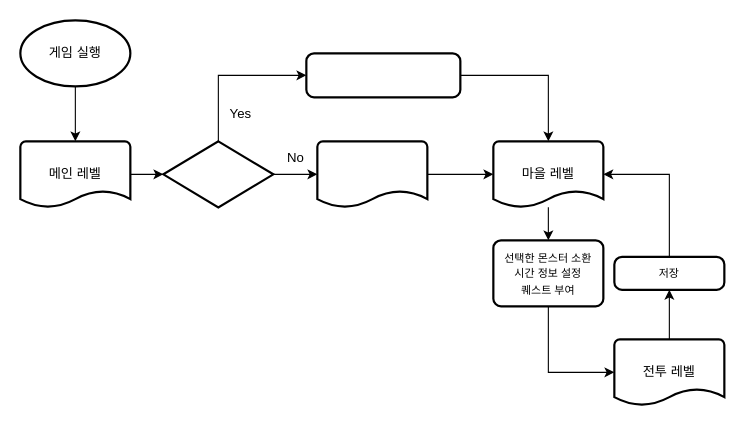
Some shapes in this 744 by 425 pixel diagram are drawn without their labels. Here are the shapes that lost their labels. From the top down, the centre of each, then its label:
point 383,75: 선택한 SaveGame Load
point 218,174: Load Game?
point 372,174: 튜토리얼 레벨
